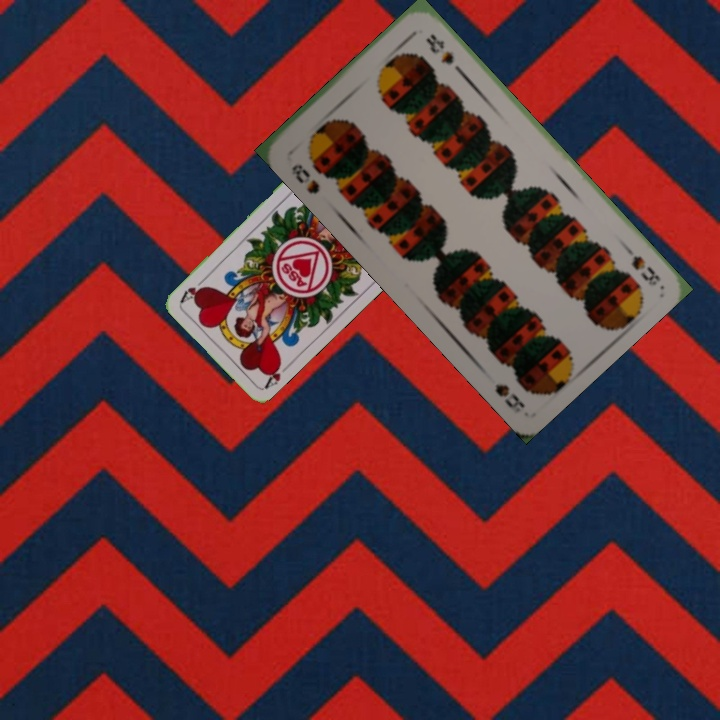HA: (261, 356, 294, 390)
S8: (617, 238, 663, 289), (287, 160, 322, 197)
